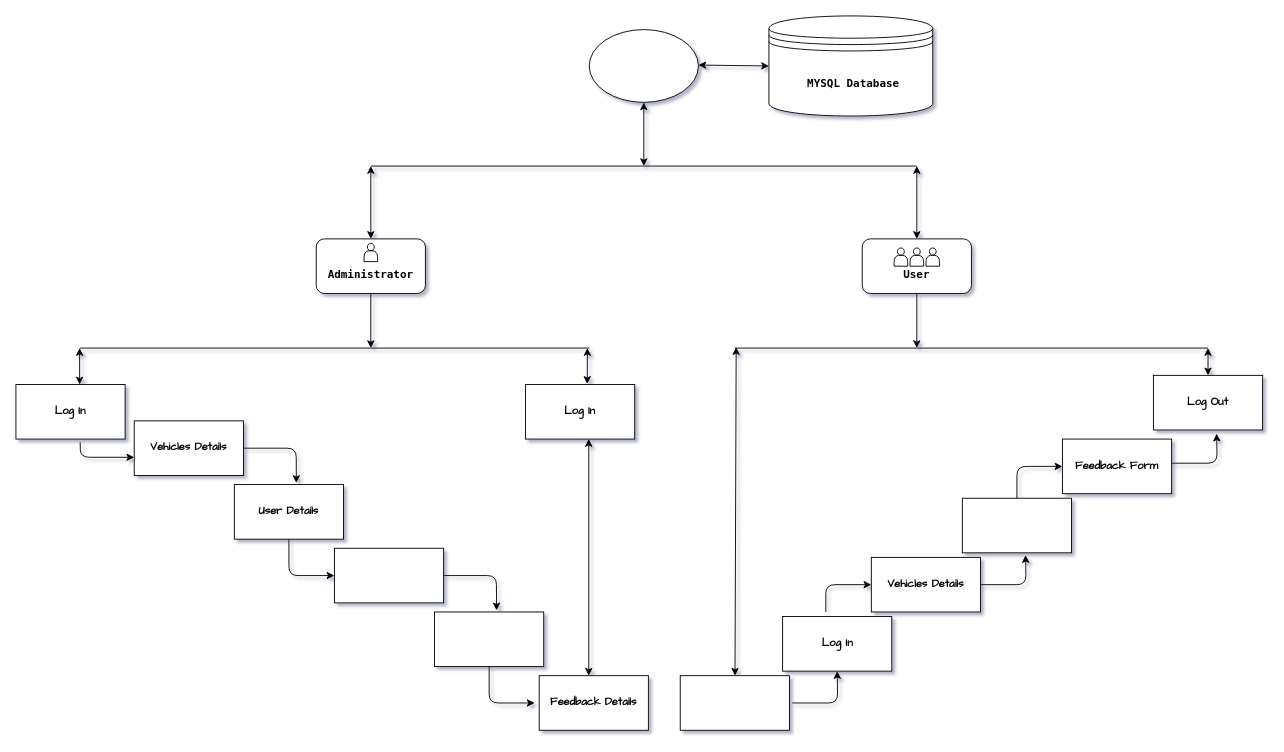
Some shapes in this 1284 by 752 pixel diagram are drawn without their labels. The shapes that lost their labels are listed below. From the top down, each one's box as (x1, y1, x2, y2) in pixels, then its label:
(588, 29, 698, 102): AMS Website
(961, 497, 1072, 553): Booking Vehicles
(334, 547, 444, 603): Booking Charts
(434, 611, 544, 667): Report Details
(679, 675, 789, 730): Registration
